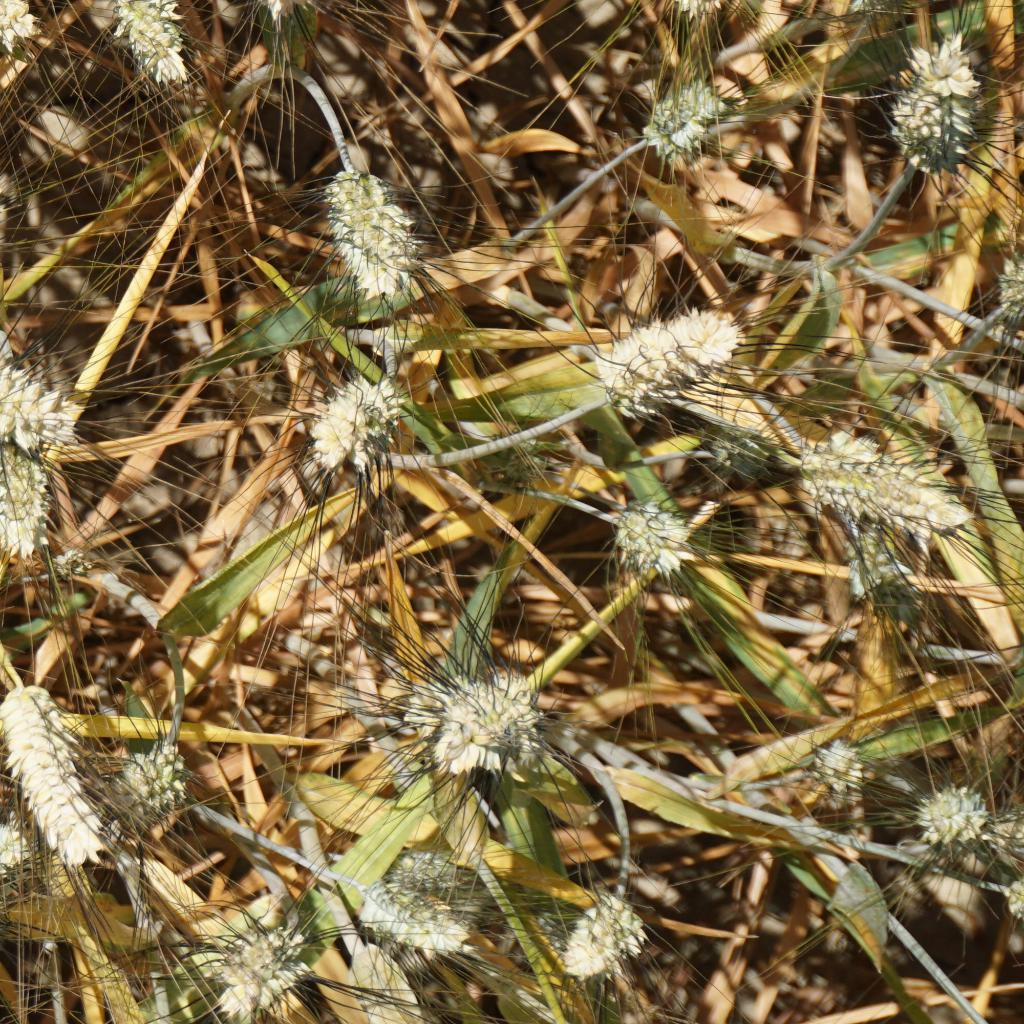0-0: (393, 640, 574, 792), (0, 673, 94, 848), (799, 433, 954, 531), (321, 157, 423, 301), (592, 299, 736, 401), (880, 23, 980, 169), (204, 917, 323, 1012), (302, 360, 397, 475), (330, 870, 454, 953), (844, 519, 937, 620), (632, 69, 730, 161), (547, 887, 647, 976), (896, 765, 998, 848), (116, 730, 202, 823), (108, 0, 195, 88), (374, 821, 470, 900), (0, 451, 69, 555), (608, 498, 700, 574), (0, 354, 65, 449), (458, 421, 547, 490), (807, 726, 870, 801), (33, 539, 102, 586), (653, 0, 736, 23), (0, 805, 23, 888), (0, 0, 33, 49)
